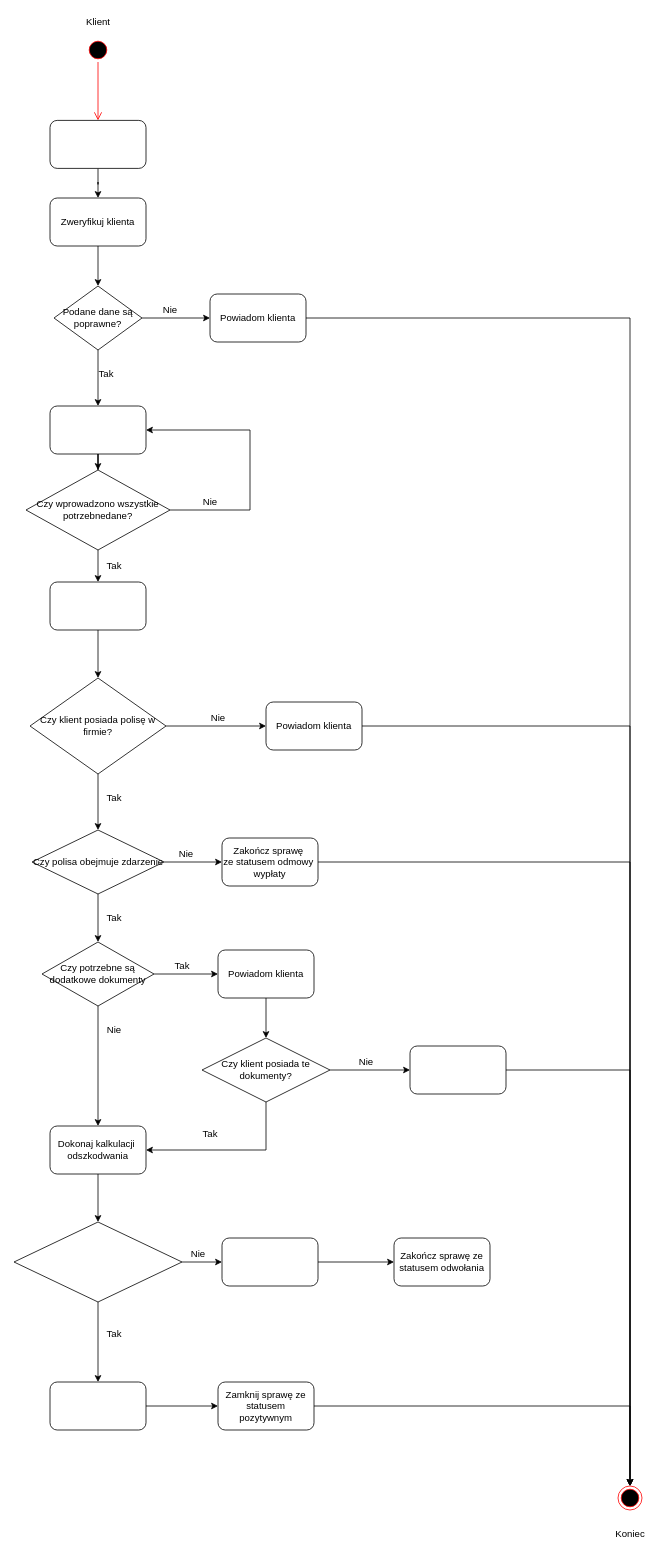
This 664x1555 diagram has some shape labels left out. The shapes that lost their labels are listed below. From the top down, each one's centre as x and y in pixels, then its label:
At [97,144]: "Skontaktuj się z konsultantem".
At [97,429]: "Wprowadź dane potrzebne do sprawy".
At [97,605]: "Przydziel opiekuna sprawie".
At [457,1069]: "Zakończ sprawę ze statusem niewystarczającej liczby dokumentów".
At [97,1261]: "Czy klient zgadza się z kwotą odszkodowania?".
At [269,1261]: "Powiadom o możliwości złożenia odwołania od kwoty odszkodowania".
At [97,1405]: "Zleć wypłatę odszkodowania".
